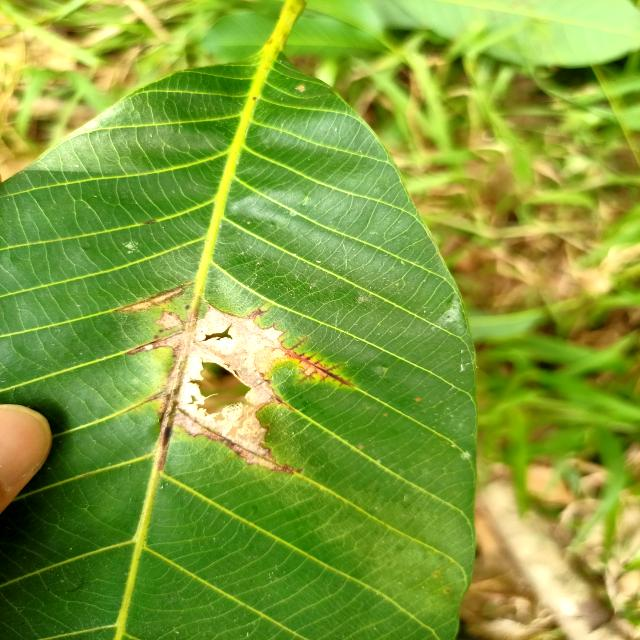Corynespora: (281, 338, 352, 388)
Leaf-Blight: (124, 304, 288, 473)
